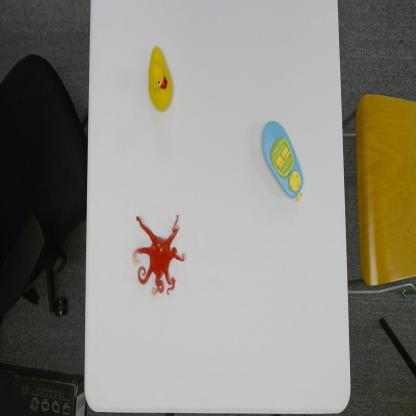Boat: (260, 118, 306, 204)
Duck: (148, 41, 174, 113)
Octopus: (132, 210, 188, 297)
